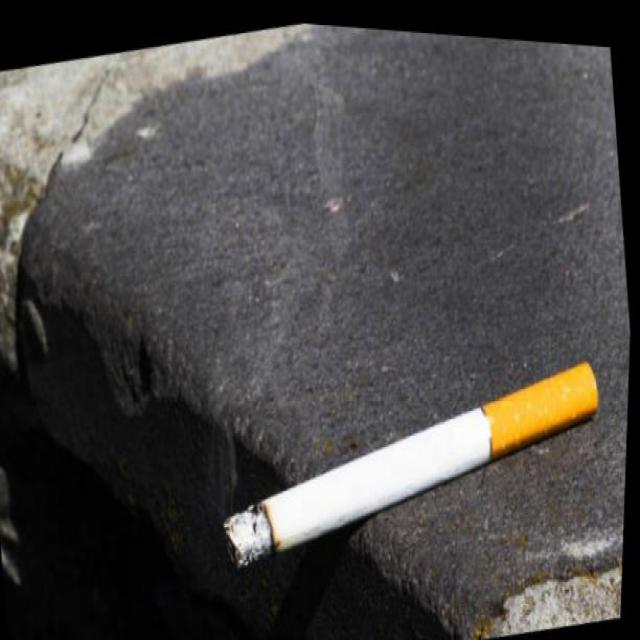cigarette: (210, 318, 621, 600)
